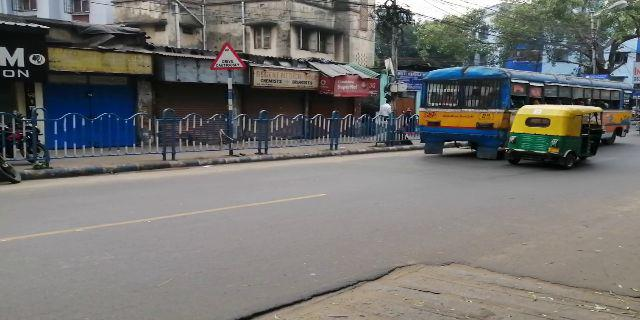Autorickshaw: (513, 108, 607, 164)
Bus: (421, 71, 632, 155)
